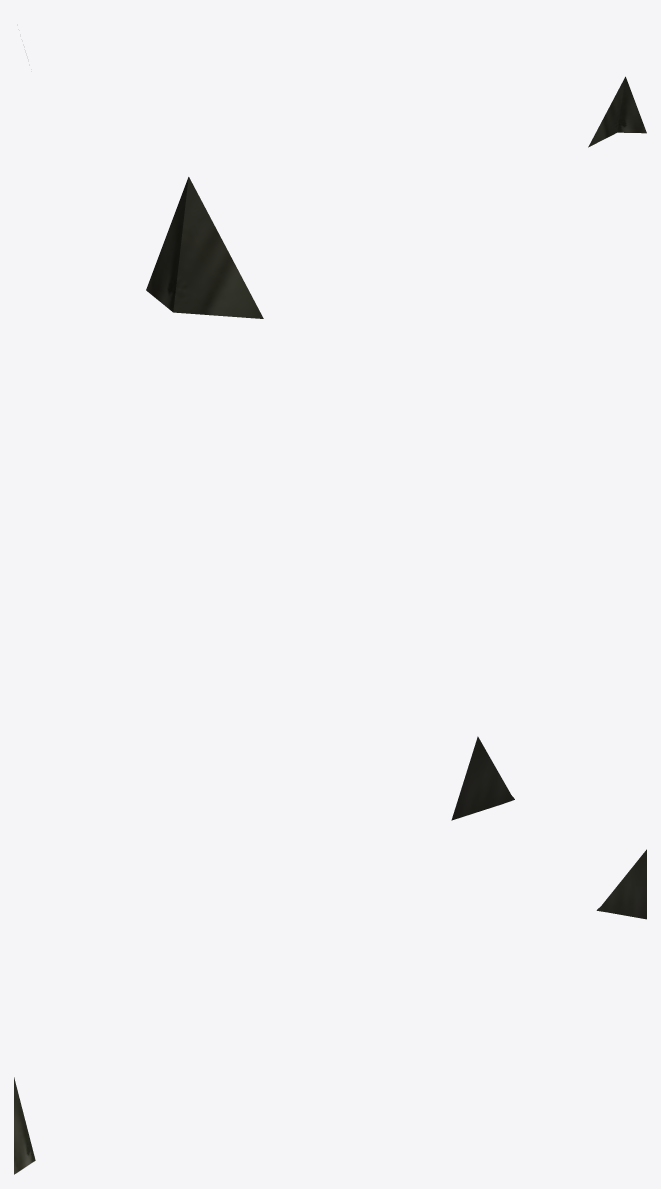
3 views of the same model, one above another, from view 1: azimuth 30°, elevation 25°; view 2: azimuth 150°, elevation 25°; view 3: azimuth 270°, elevation 25° (orthographic). The views are drawn at different scales.
Bounding box in the file's own units: 2.91 × 0.4335 × 2.95.
Materials: 1 (1 with a texture image).
